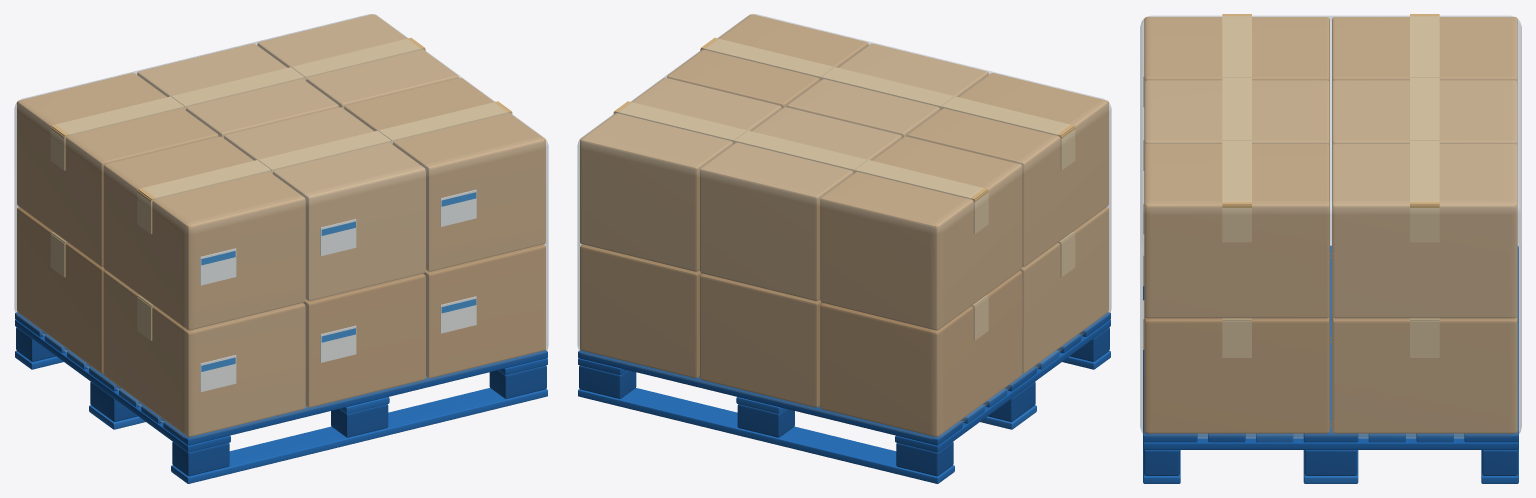
File: pallet_load_half.glb
3 renders of one model, left to right at view 1: azimuth 30°, elevation 25°; view 2: azimuth 150°, elevation 25°; view 3: azimuth 270°, elevation 25°, orthographic. The views are drawn at different scales.
Parts seen in each view (by area): view 1: film_geo, load_geo, pallet_geo; view 2: film_geo, load_geo, pallet_geo; view 3: film_geo, load_geo, pallet_geo.
Boxes of the visible parts, left/top/right/bottom form: film_geo: left=14, top=14, right=548, bottom=438; load_geo: left=17, top=14, right=545, bottom=436; pallet_geo: left=15, top=312, right=547, bottom=483; film_geo: left=577, top=14, right=1111, bottom=438; load_geo: left=580, top=14, right=1108, bottom=436; pallet_geo: left=578, top=312, right=1110, bottom=483; film_geo: left=1140, top=15, right=1521, bottom=438; load_geo: left=1143, top=14, right=1517, bottom=433; pallet_geo: left=1143, top=245, right=1518, bottom=483.
Bounding box in the file's own units: 1.22 × 0.8248 × 1.02.
